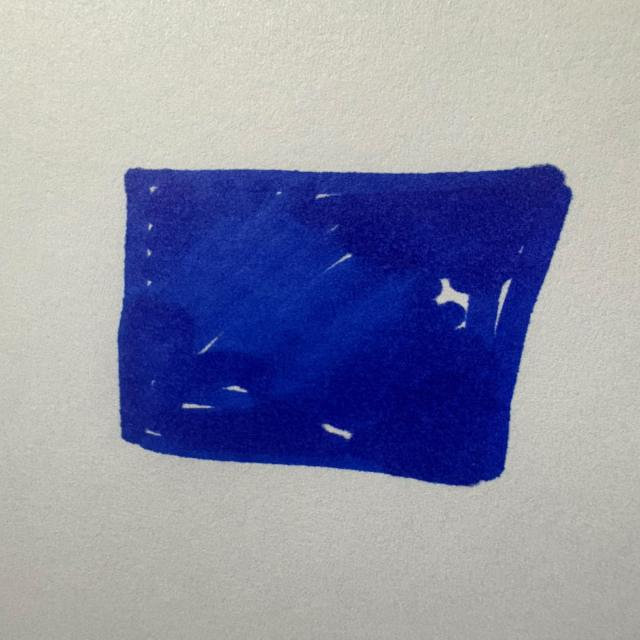Square: (118, 166, 570, 485)
